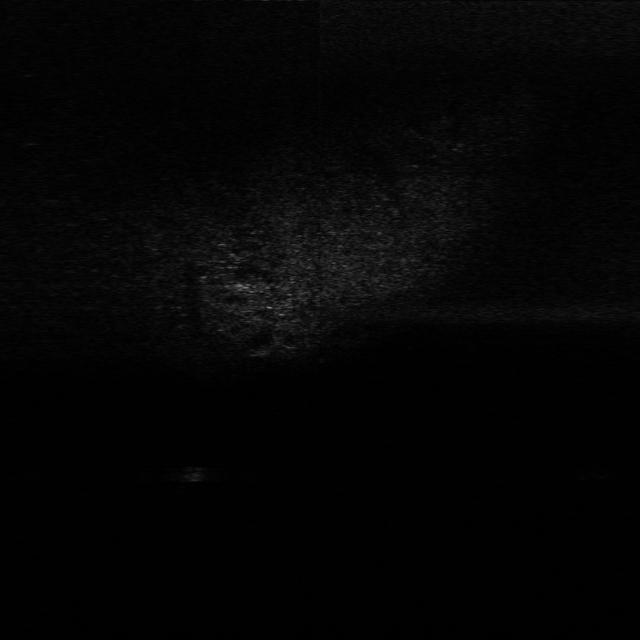cylinder: (183, 462, 211, 484)
